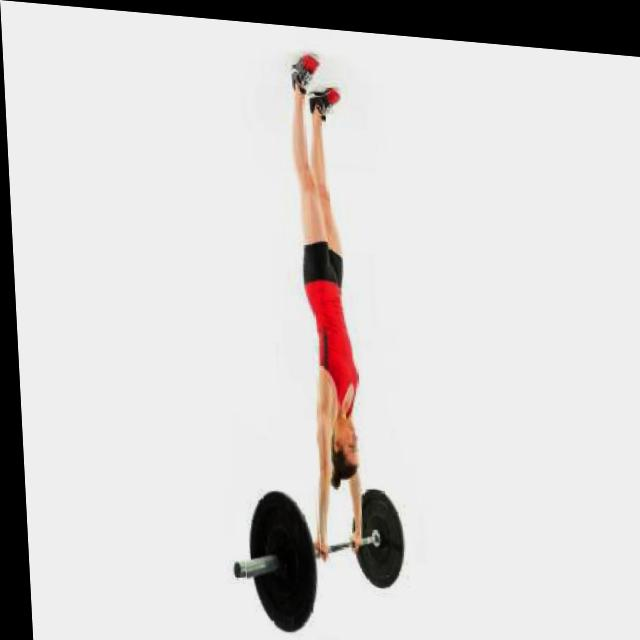barbell: (235, 476, 321, 636)
